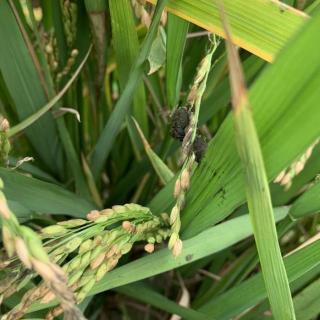Gosong-Palsu: (168, 108, 210, 160)
